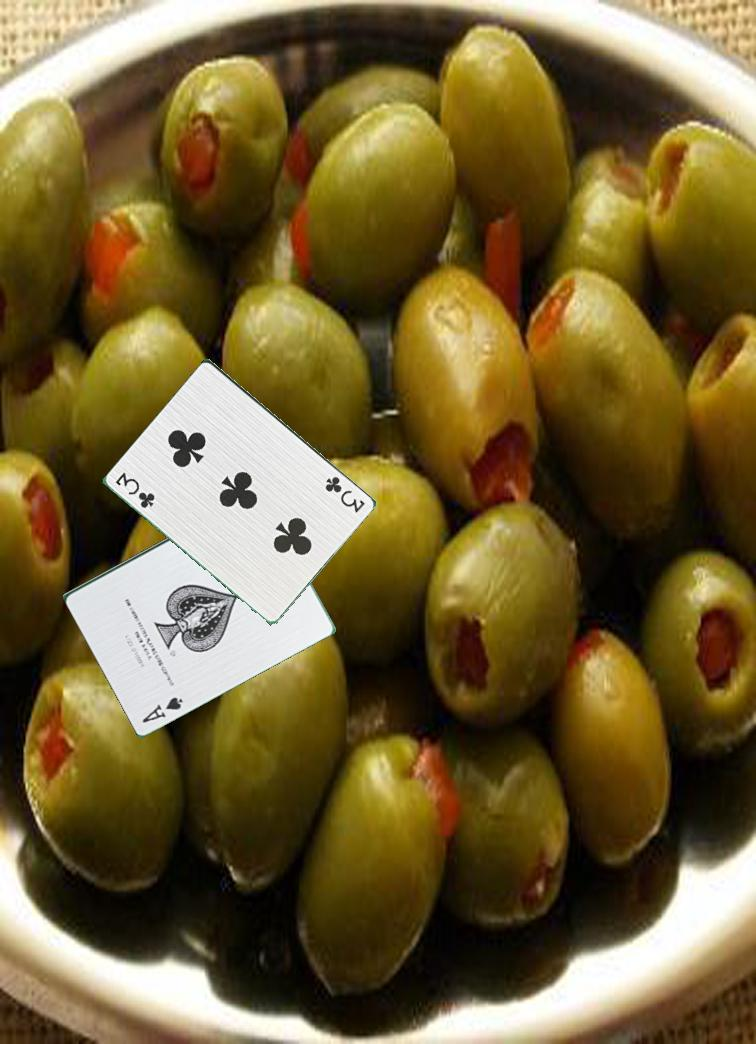3c: (112, 468, 164, 513), (316, 472, 368, 516)
as: (139, 693, 187, 725)
